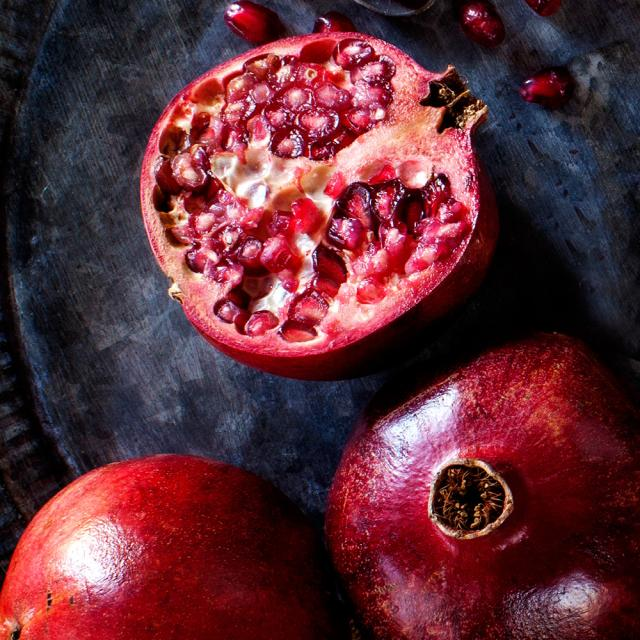apple: (317, 356, 640, 640), (8, 441, 335, 640)
